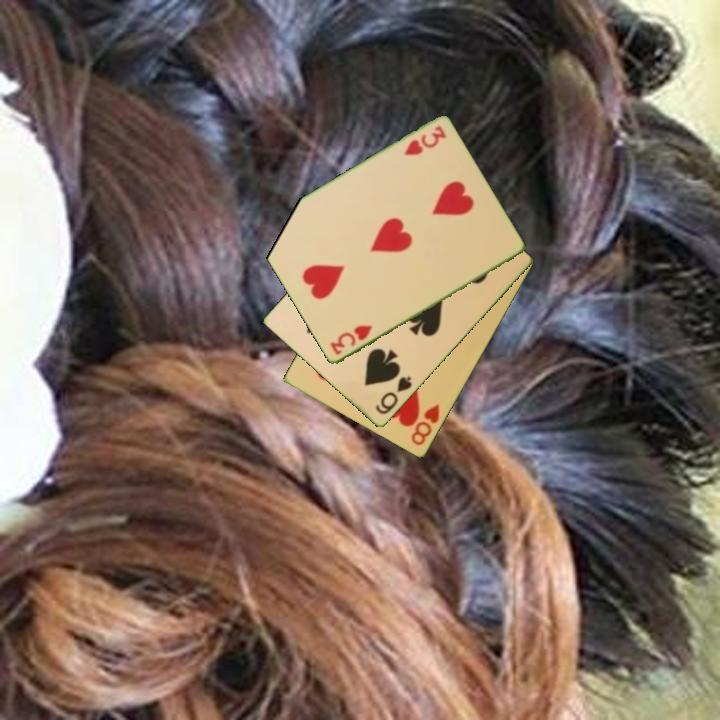3h: (326, 322, 376, 358), (400, 123, 449, 159)
6s: (372, 373, 415, 418)
8h: (407, 401, 443, 449)
